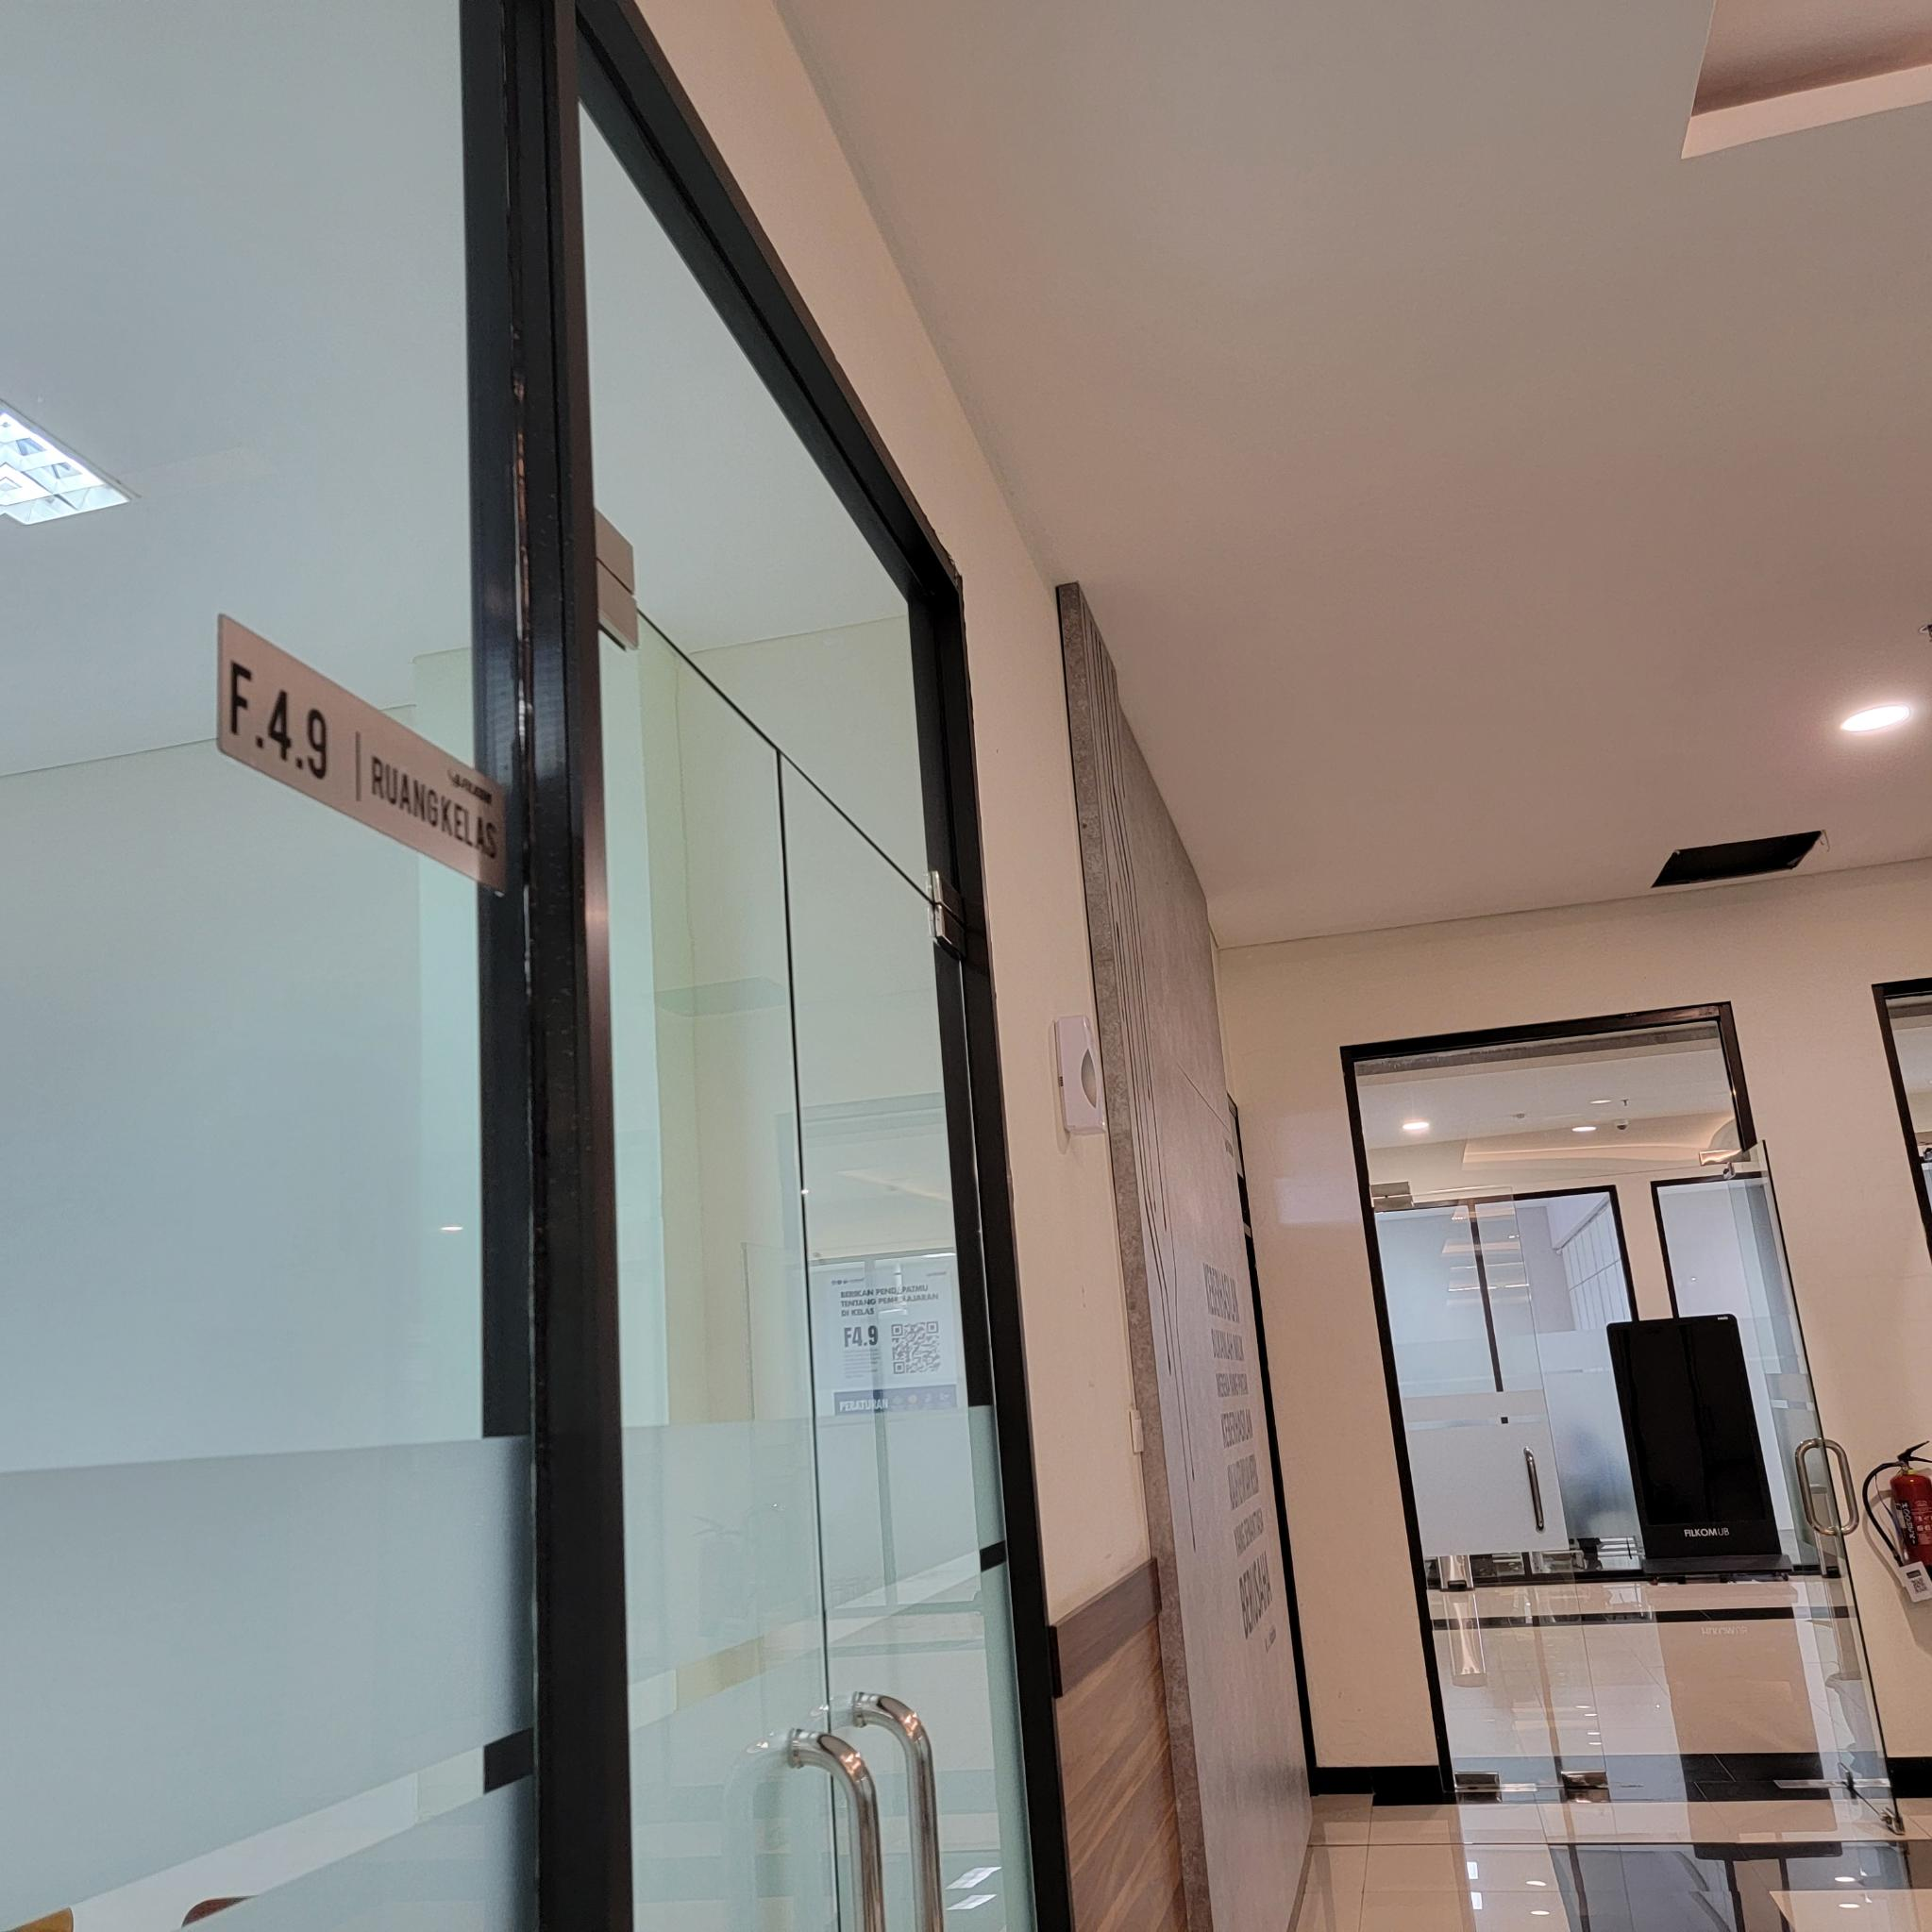plate: (219, 612, 513, 901)
